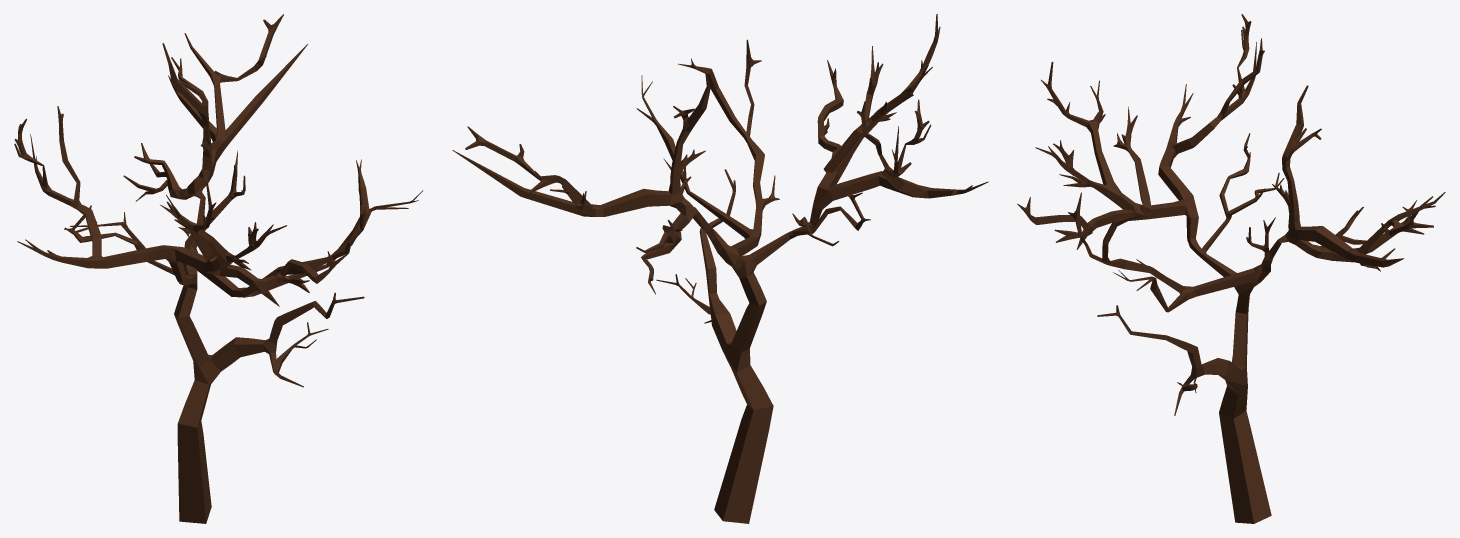
Rendered from DeadTree-Export.obj.
3 renders of one model, left to right at view 1: azimuth 30°, elevation 25°; view 2: azimuth 150°, elevation 25°; view 3: azimuth 270°, elevation 25°, orthographic. The views are drawn at different scales.
Visible parts, largest first — view 1: Cube; view 2: Cube; view 3: Cube.
Part boxes in pixels (x1,y1,x2,y2): Cube: [14, 14, 423, 523]; Cube: [452, 14, 988, 523]; Cube: [1017, 14, 1445, 523].
Bounding box in the file's own units: 4.36 × 4.68 × 4.18.
Materials: 1 (1 with a texture image).
